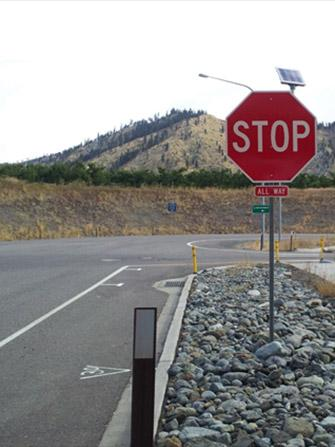Pole: (267, 197, 276, 341)
Sign: (225, 91, 319, 186)
